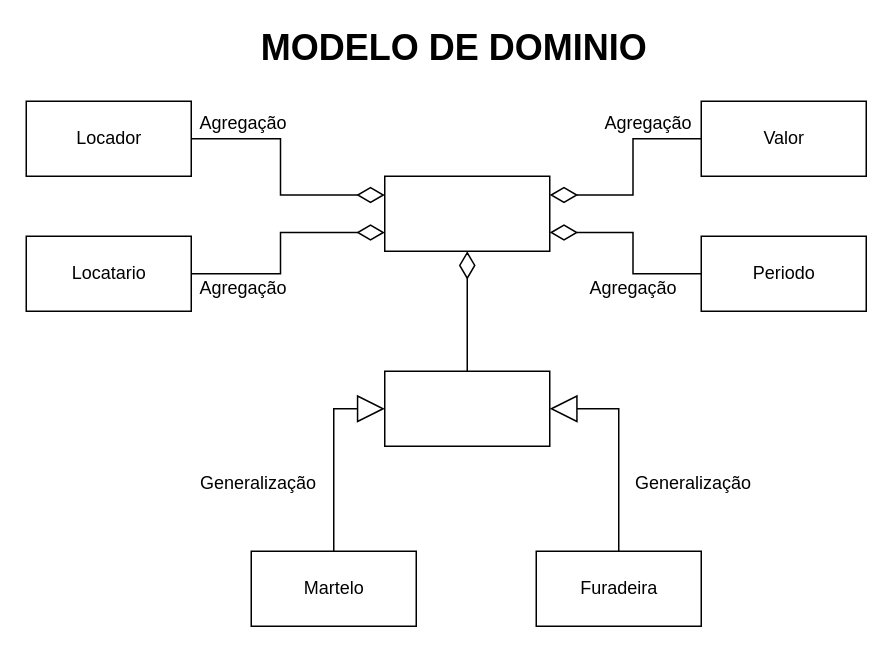
The diagram is 893 pixels wide and 653 high, and some of its shapes have lost their labels. Each missing label, with the centre of its shape:
"Ferramenta" goes at point 466,408.
"Locação" goes at point 466,213.
